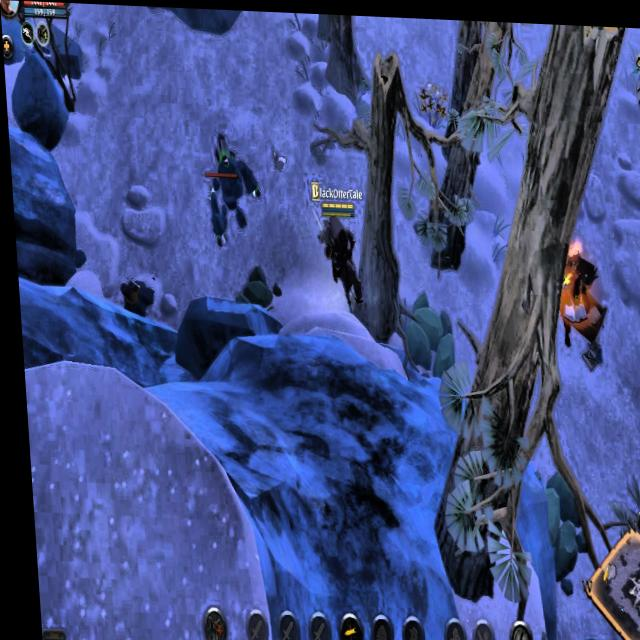copperore: (113, 271, 152, 314)
sandstone: (531, 456, 582, 587), (396, 287, 459, 378), (230, 262, 280, 312)
